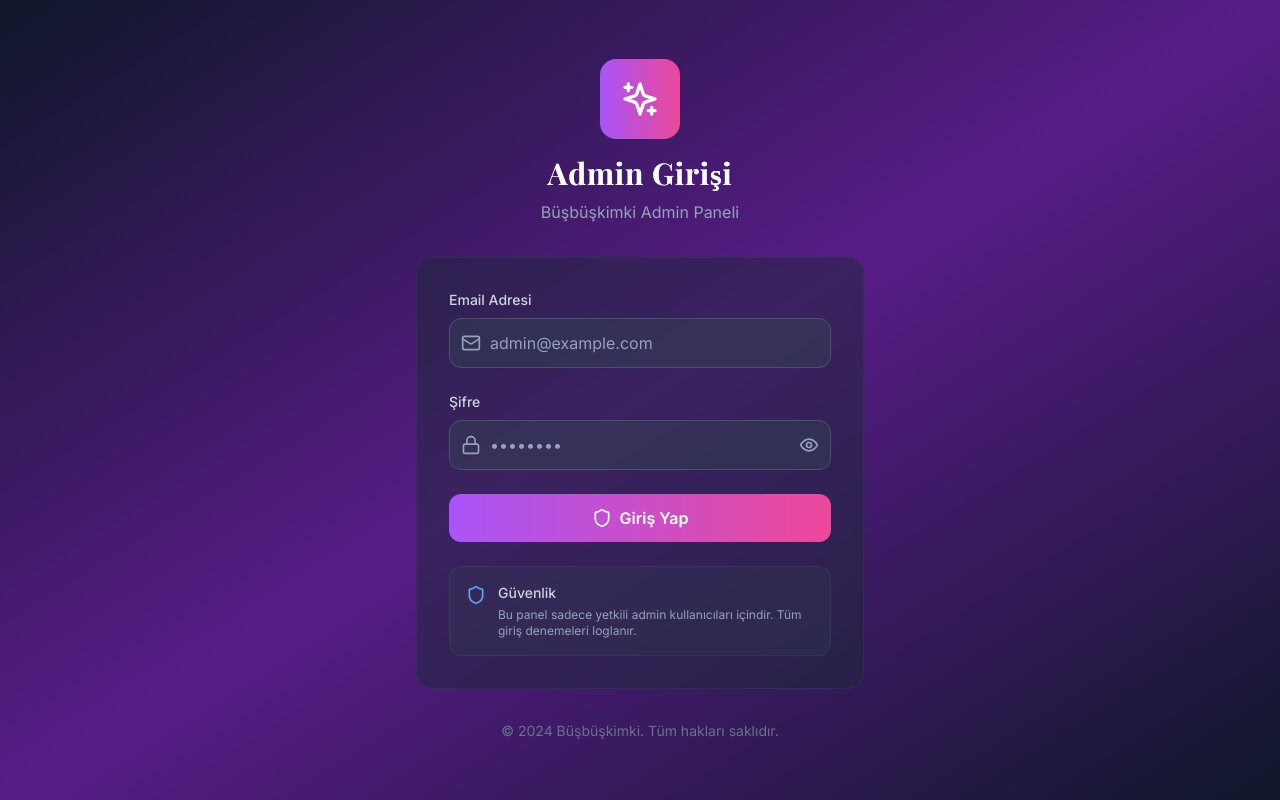
it: SimpleAdminLogin › Form Interaction › should show loading state when form is submitted
Type "admin@test.com" into the field labelled "Email Adresi" at (640, 343), box [449,318,831,368]
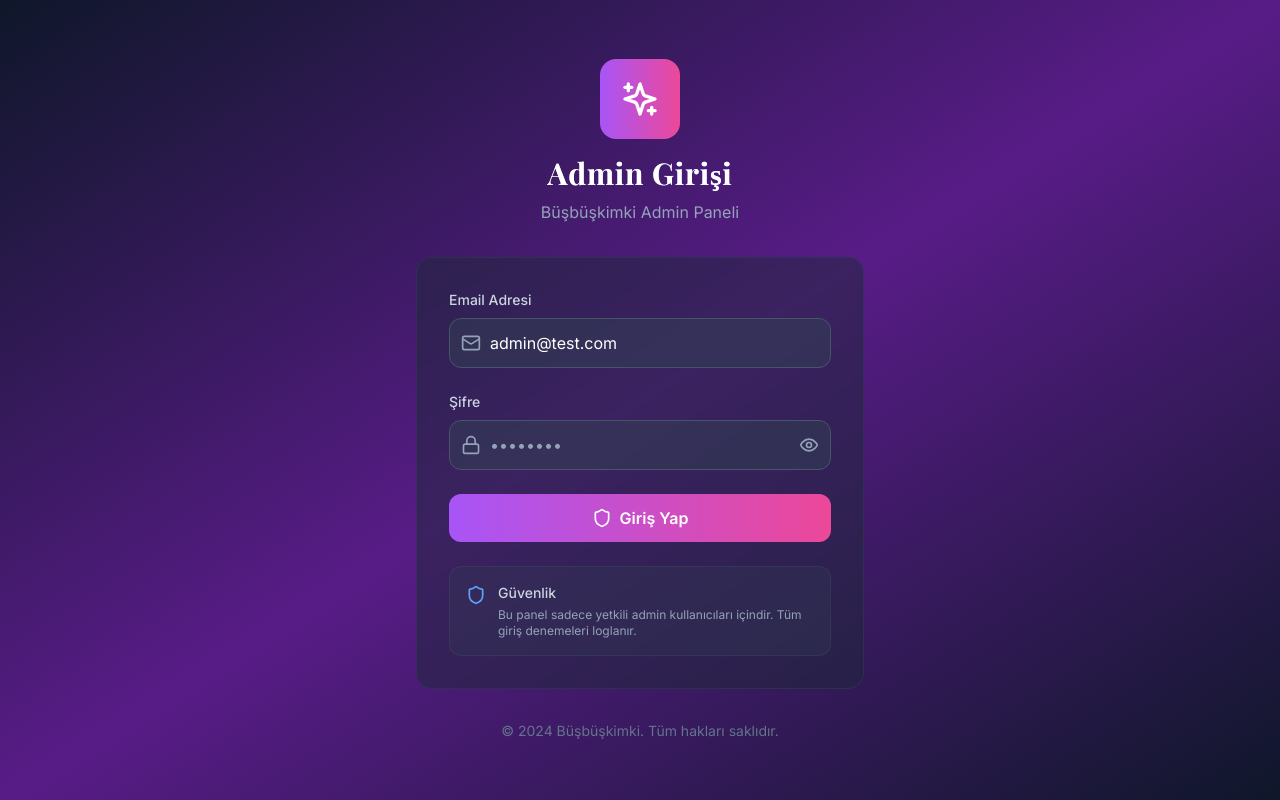
Type "password123" into the password field labelled "Şifre" at (640, 445), box [449,420,831,470]
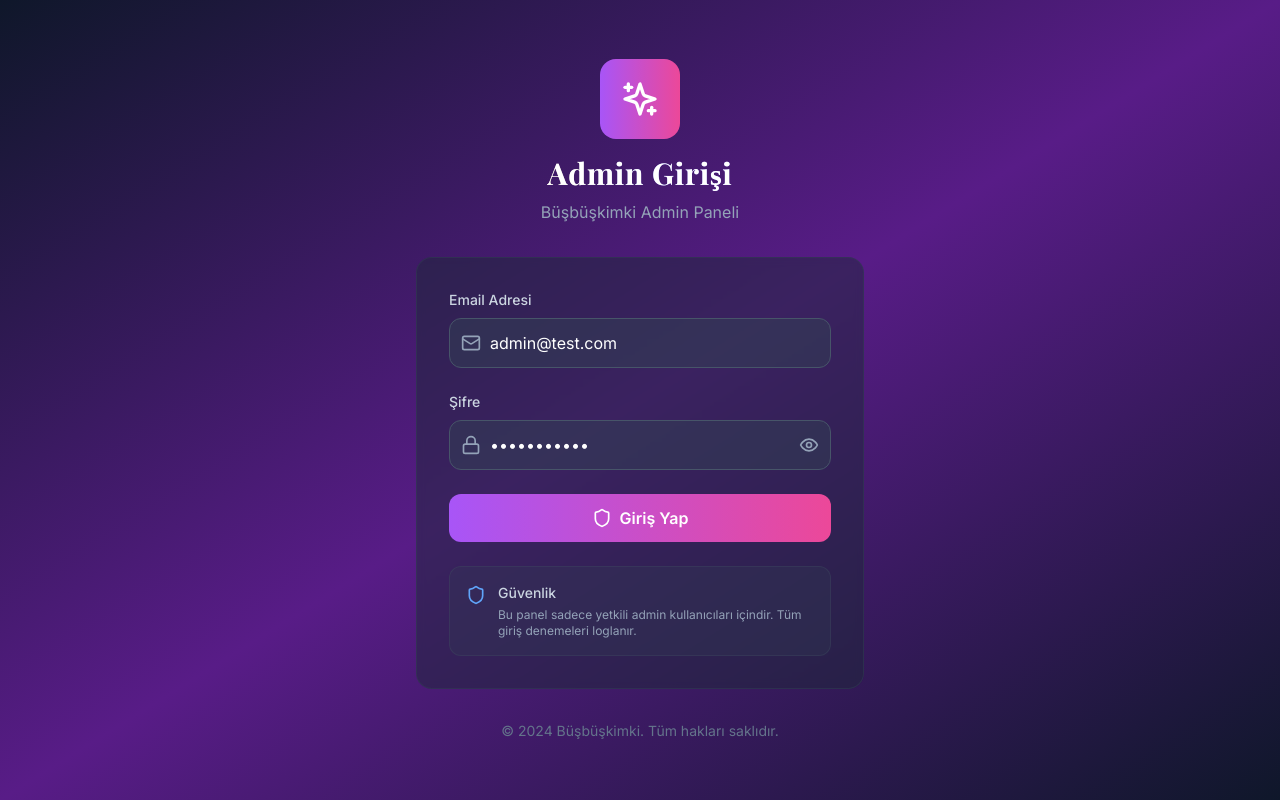
Click the button "Giriş Yap" at (640, 518), box [449,494,831,542]
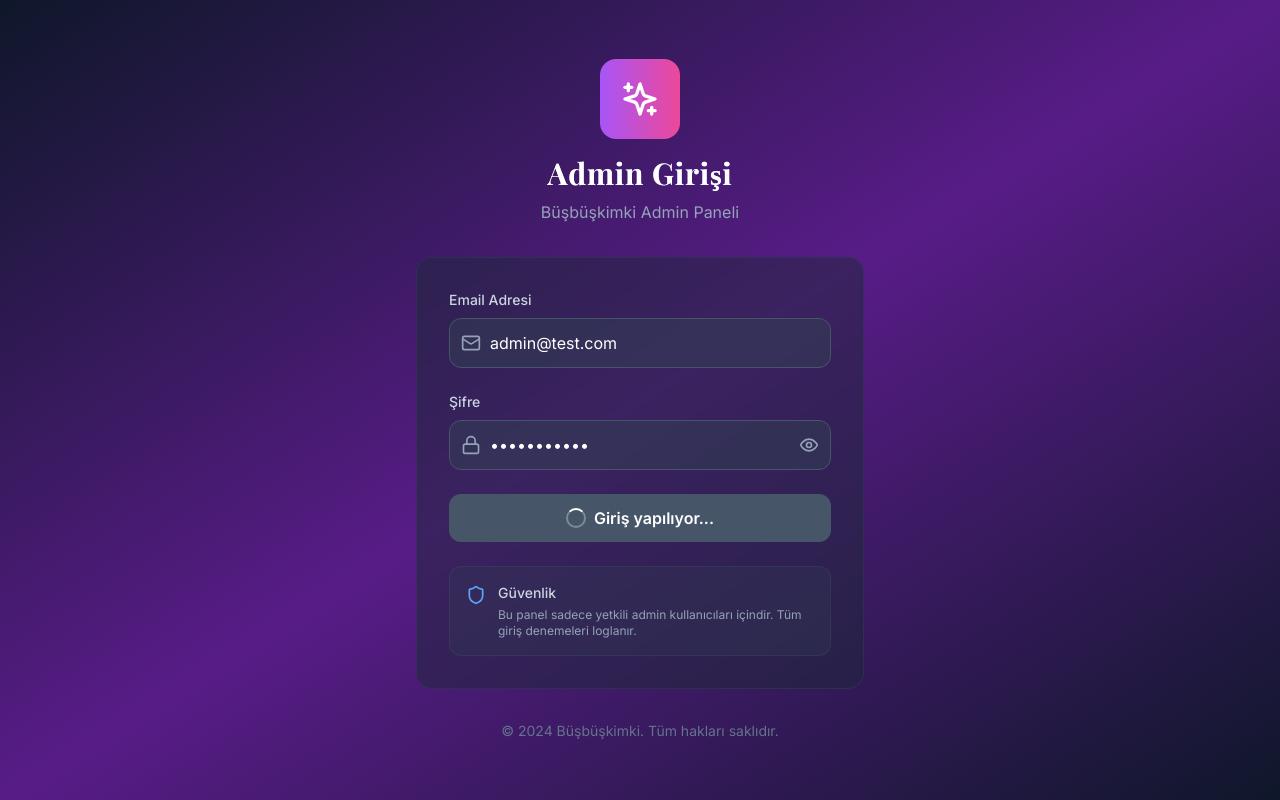
Check: the button "Giriş yapılıyor..." is disabled, box [449,494,831,542]
